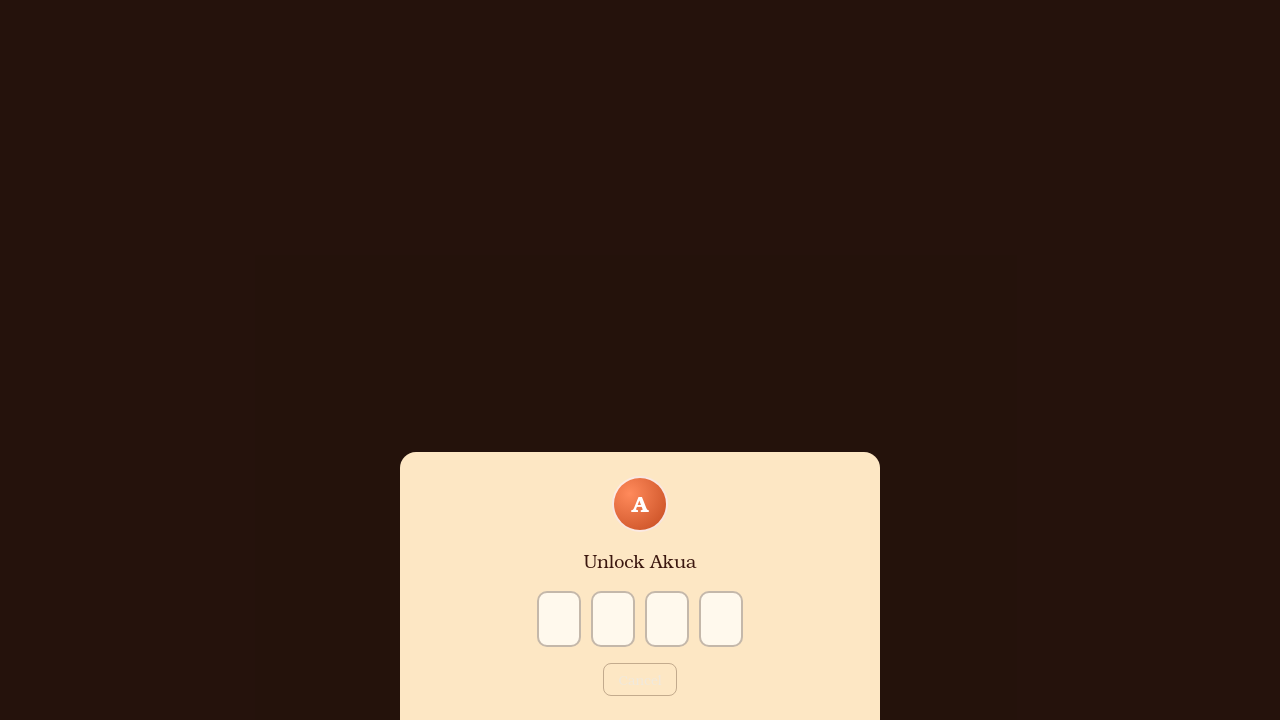
Test case: UnlockSheet › locked response shows countdown and disables input
Type "0" into the field named "PIN digit 1" at (559, 618), box [537,590,581,646]
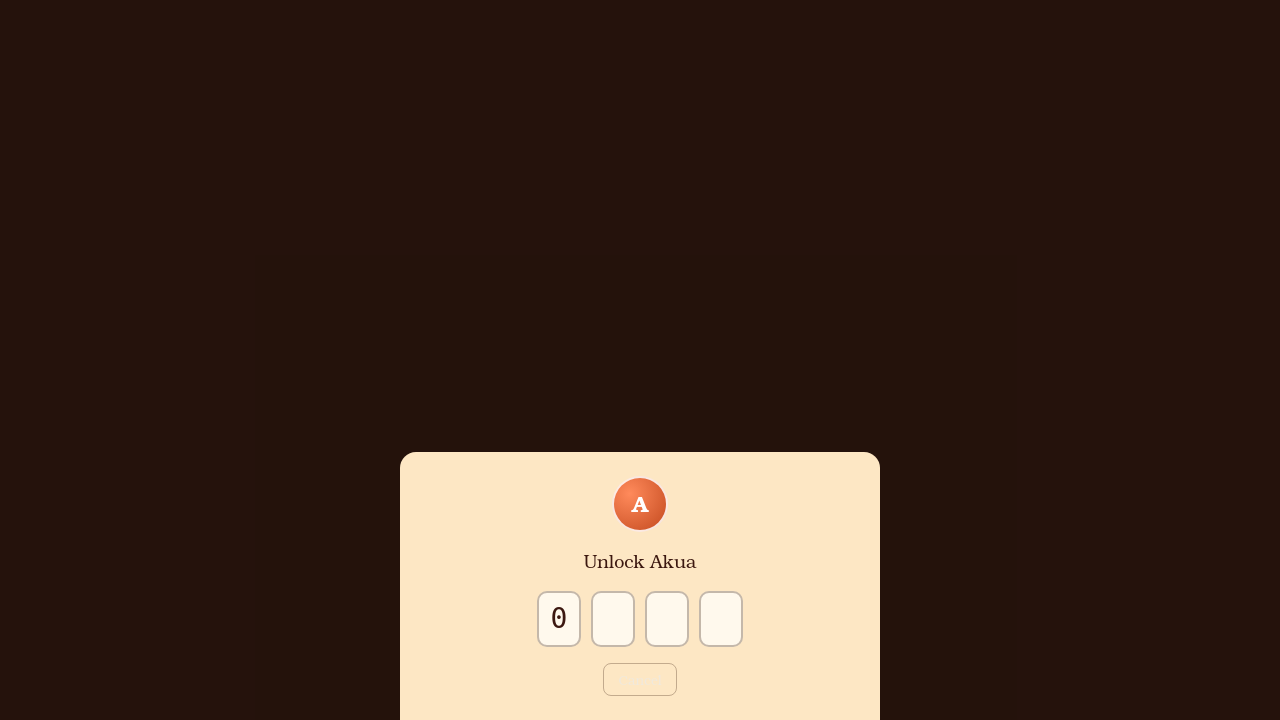
Type "0" into the field named "PIN digit 2" at (613, 618), box [591,590,635,646]
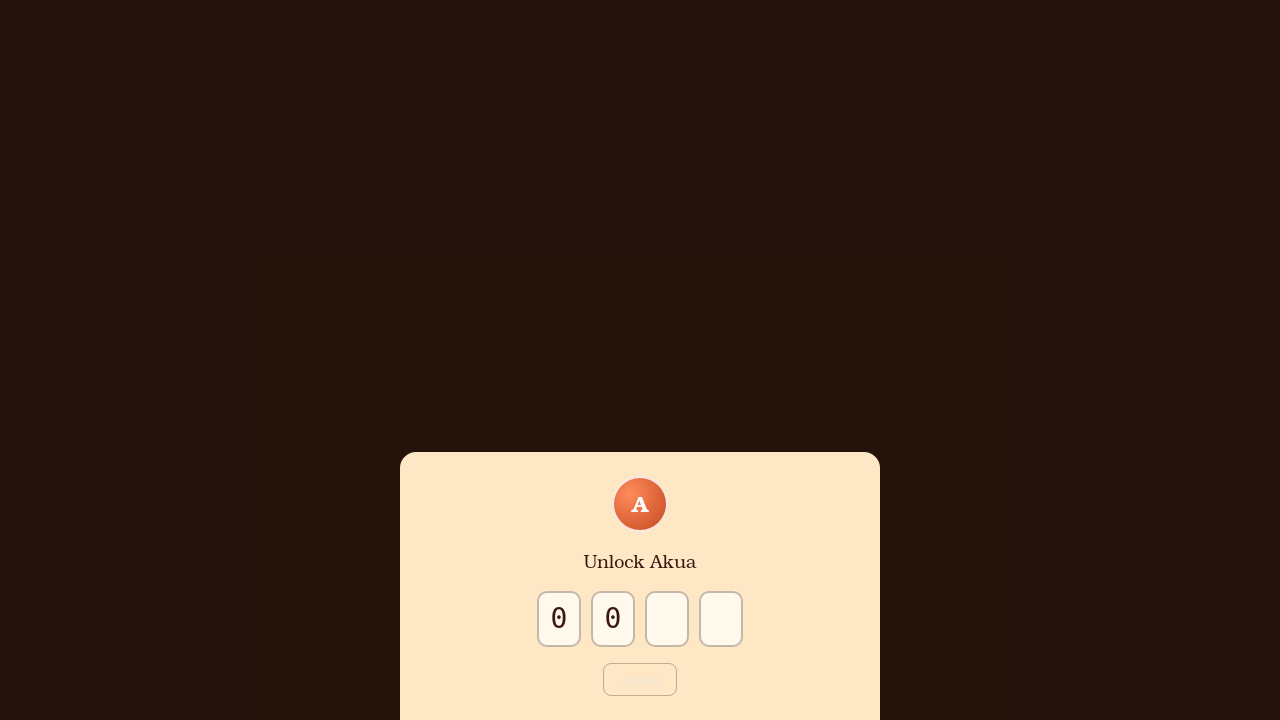
Type "0" into the field named "PIN digit 3" at (667, 618), box [645,590,689,646]
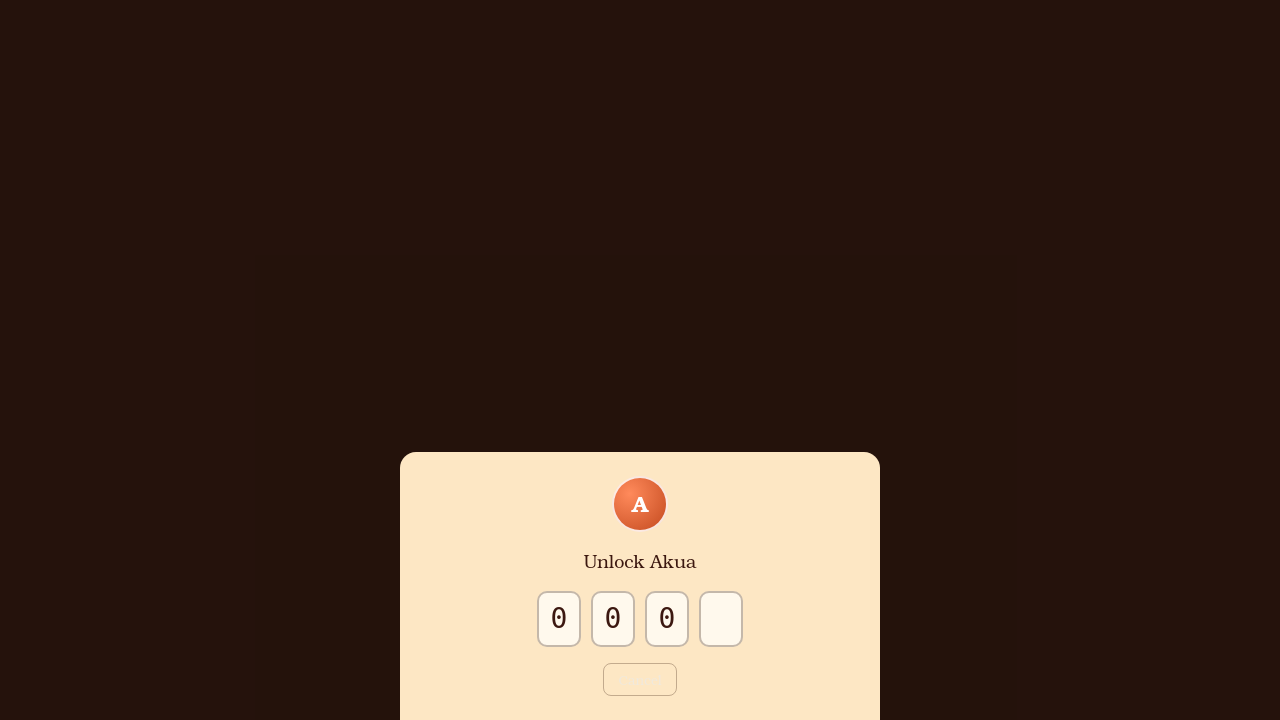
Type "0" into the field named "PIN digit 4" at (721, 618), box [699,590,743,646]
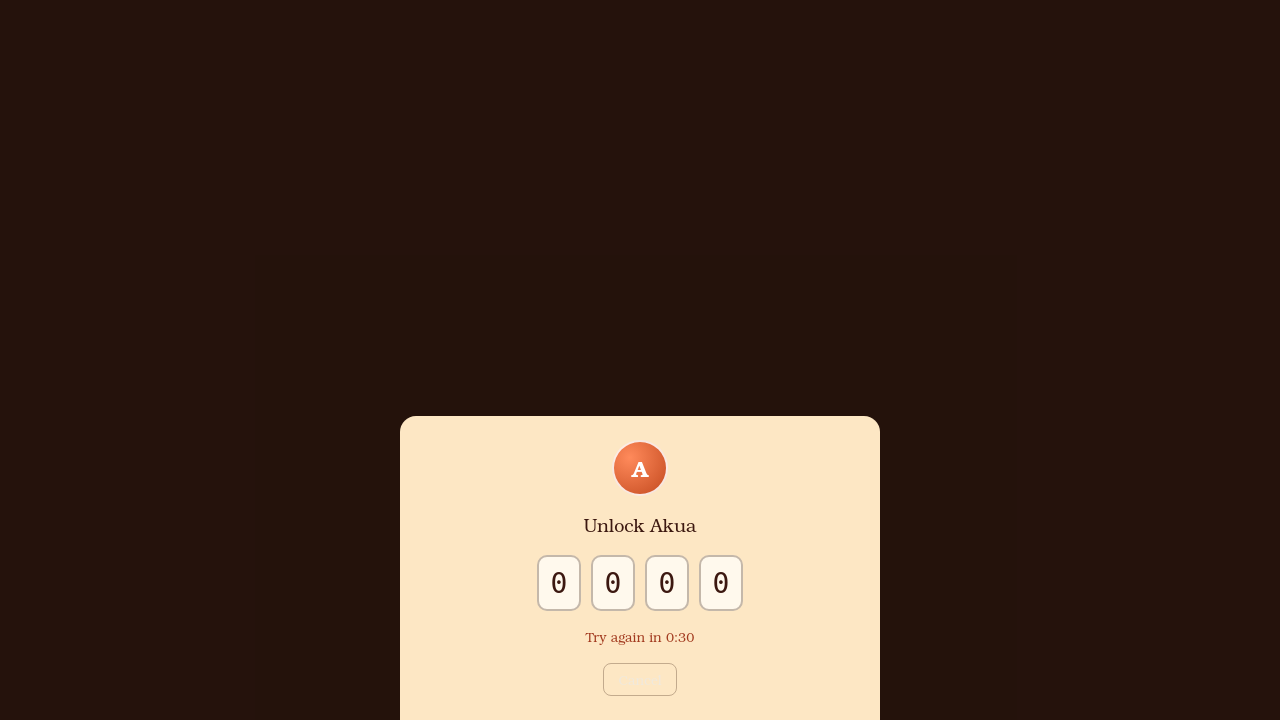
Result: the text "Try again in 0:30" is shown at [586,627,694,646]
Result: the field named "PIN digit 1" is disabled at [537,555,581,611]
